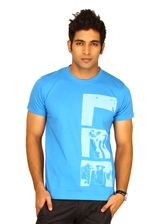clothoes: (20, 63, 139, 203)
